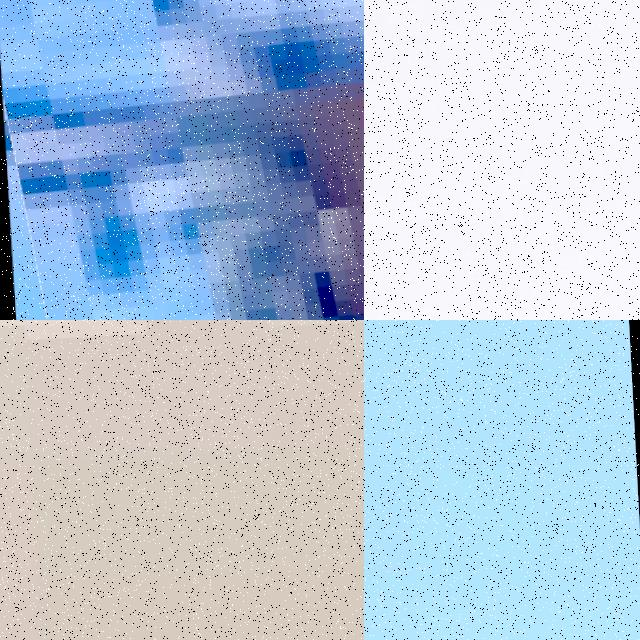0: (0, 0, 364, 320)
drone: (364, 0, 640, 320)
